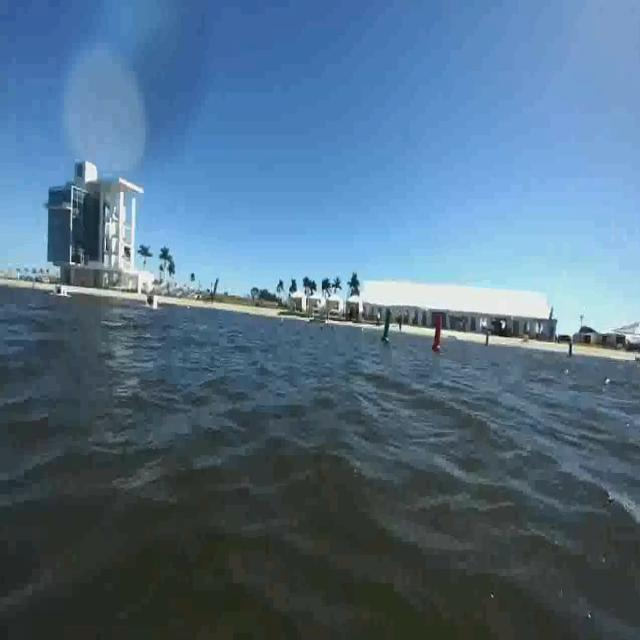green-column-buoy: (381, 307, 393, 343)
red-column-buoy: (431, 312, 445, 352)
